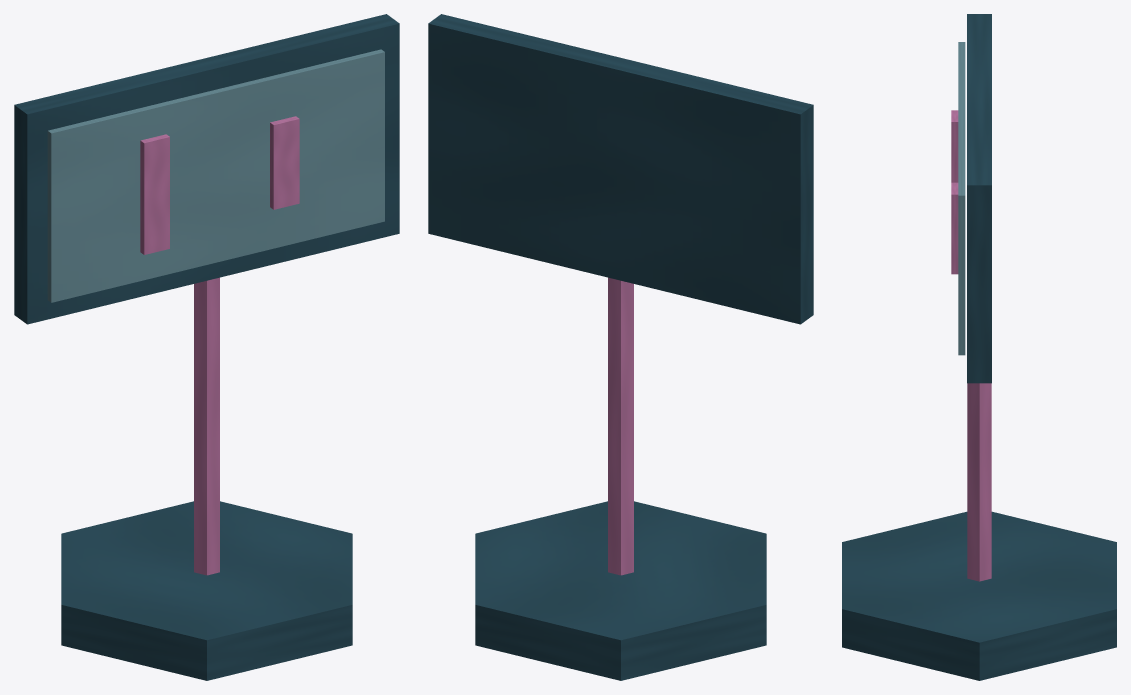
File: atlas100-s062-a11.lod1.glb
The picture shows the model from 3 angles, left to right: view 1: azimuth 30°, elevation 25°; view 2: azimuth 150°, elevation 25°; view 3: azimuth 270°, elevation 25°; orthographic projection. The views are drawn at different scales.
Visible parts, largest first — view 1: atlas100-s062-a11:part-003, atlas100-s062-a11:part-000, atlas100-s062-a11:part-002, atlas100-s062-a11:part-001, atlas100-s062-a11:part-004, atlas100-s062-a11:part-006; view 2: atlas100-s062-a11:part-002, atlas100-s062-a11:part-000, atlas100-s062-a11:part-001; view 3: atlas100-s062-a11:part-000, atlas100-s062-a11:part-002, atlas100-s062-a11:part-001, atlas100-s062-a11:part-003, atlas100-s062-a11:part-006, atlas100-s062-a11:part-004.
Boxes of the visible parts, x1,y1,x2,y2 form: atlas100-s062-a11:part-003: [47, 49, 384, 302]; atlas100-s062-a11:part-000: [61, 501, 352, 680]; atlas100-s062-a11:part-002: [14, 14, 399, 324]; atlas100-s062-a11:part-001: [194, 277, 219, 575]; atlas100-s062-a11:part-004: [140, 134, 169, 254]; atlas100-s062-a11:part-006: [270, 116, 299, 209]; atlas100-s062-a11:part-002: [428, 14, 813, 324]; atlas100-s062-a11:part-000: [475, 501, 766, 680]; atlas100-s062-a11:part-001: [608, 277, 633, 575]; atlas100-s062-a11:part-000: [842, 511, 1116, 680]; atlas100-s062-a11:part-002: [967, 14, 991, 383]; atlas100-s062-a11:part-001: [967, 383, 991, 581]; atlas100-s062-a11:part-003: [958, 42, 965, 355]; atlas100-s062-a11:part-006: [951, 182, 958, 274]; atlas100-s062-a11:part-004: [951, 110, 958, 182].
Bounding box in the file's own units: 1.15 × 1.61 × 0.7794.
Materials: 3 (3 with a texture image).
